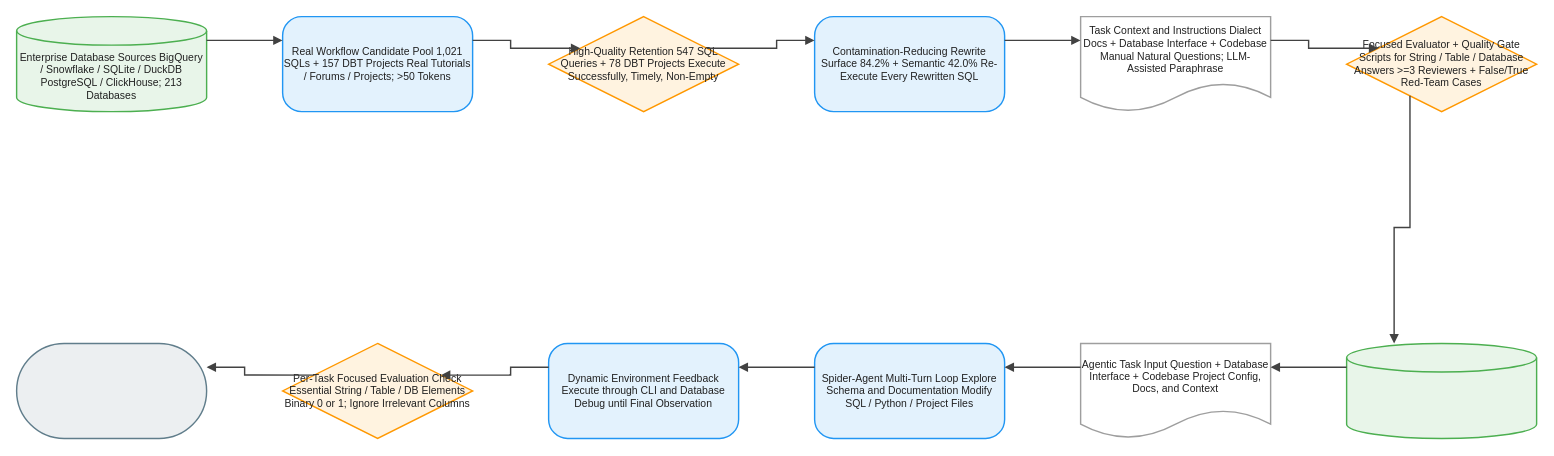
Image size: 1554x456. Some labels were removed from this diagram. The centre of each missing label's shape, as x and y in pixels:
"Spider 2.0 Results Agentic Success Rate (SR) Lite / Snow Execution Accuracy (EX)" belongs at (x=111, y=390).
"Spider 2.0 Suite 632 Agentic Workflows 547-Task Lite and Snow SQL Variants" belongs at (x=1441, y=390).
